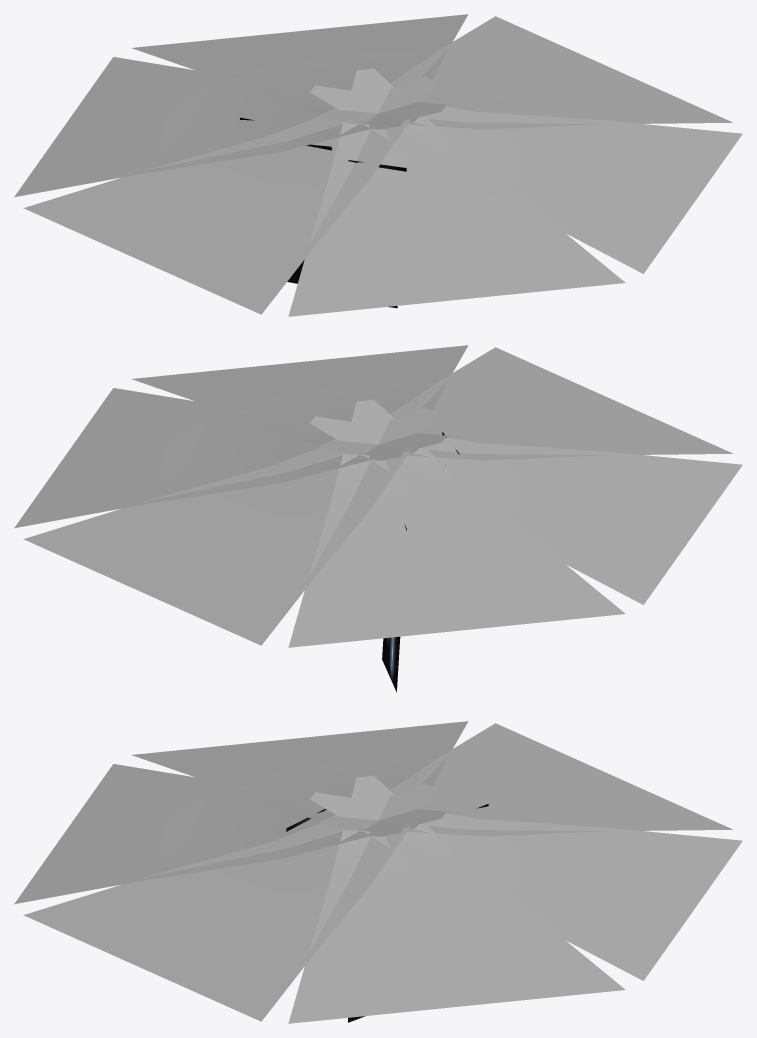
File: GhostShipFX.fbx
3 views of the same model, one above another, from view 1: azimuth 30°, elevation 25°; view 2: azimuth 150°, elevation 25°; view 3: azimuth 270°, elevation 25° (orthographic).
Visible parts, largest first — view 1: GhostCloudMesh07, GhostCloudMesh06, GhostCloudMesh08, GhostCloudMesh05, GhostCloudMesh03, GhostCloudMesh04; view 2: GhostCloudMesh05, GhostCloudMesh04, GhostCloudMesh06, GhostCloudMesh03, GhostCloudMesh07, GhostCloudMesh08, lightning_1; view 3: GhostCloudMesh03, GhostCloudMesh08, GhostCloudMesh04, GhostCloudMesh07, GhostCloudMesh05, GhostCloudMesh06.
Boxes of the visible parts, x1,y1,x2,y2 form: GhostCloudMesh07: (288,68,625,316); GhostCloudMesh06: (23,76,436,314); GhostCloudMesh08: (310,85,742,273); GhostCloudMesh05: (14,57,446,197); GhostCloudMesh03: (320,16,732,129); GhostCloudMesh04: (132,14,468,128); GhostCloudMesh05: (288,399,625,647); GhostCloudMesh04: (23,407,436,645); GhostCloudMesh06: (310,416,742,604); GhostCloudMesh03: (14,388,446,528); GhostCloudMesh07: (320,347,733,460); GhostCloudMesh08: (131,345,468,459); lightning_1: (382,524,406,692); GhostCloudMesh03: (288,775,625,1023); GhostCloudMesh08: (23,783,436,1021); GhostCloudMesh04: (310,792,742,980); GhostCloudMesh07: (14,764,446,904); GhostCloudMesh05: (320,723,732,836); GhostCloudMesh06: (132,721,468,835).
Size of the model in its own units: 82150 by 25570 by 83603.
2 materials, 2 textured.
